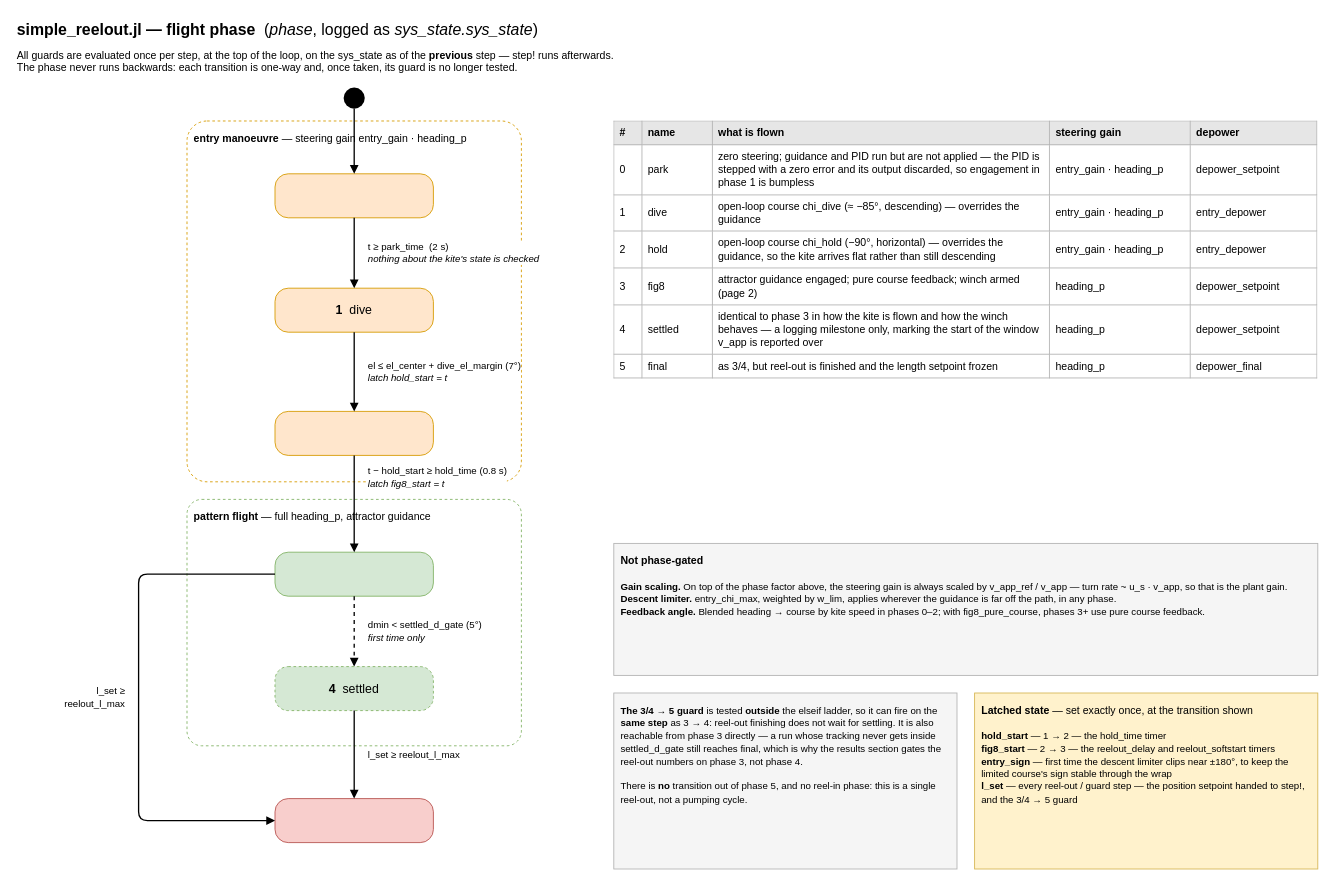
The diagram is 1333 pixels wide and 884 high, and some of its shapes have lost their labels. The centre of each missing label's shape, as x and y in pixels:
0 park: the point at 353,195
2 hold: the point at 353,433
3 fig8: the point at 353,573
5 final: the point at 353,820
